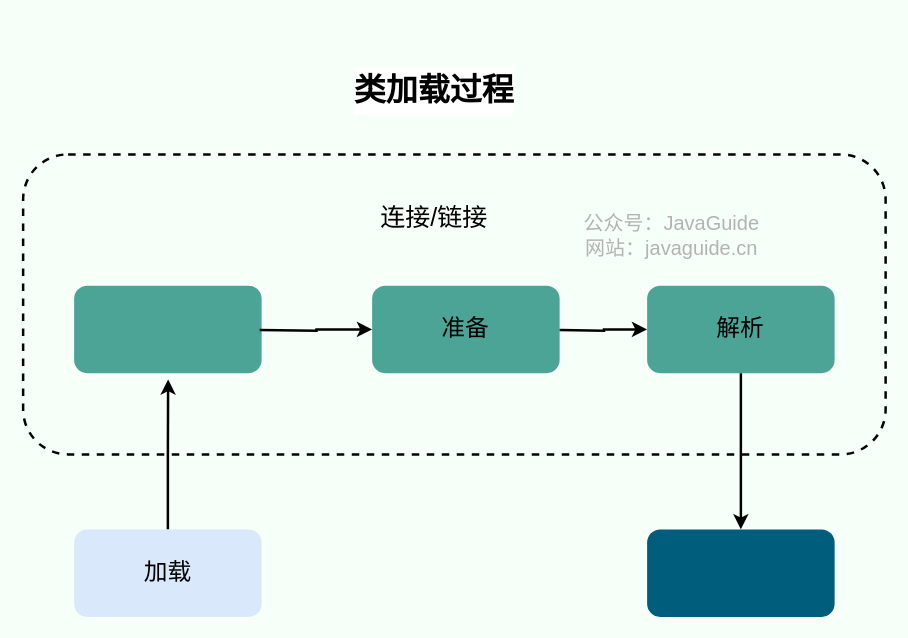
Some shapes in this 908 by 638 pixel diagram are drawn without their labels. The shapes that lost their labels are listed below. From the top down, each one's centre as x and y in pixels, then its label:
(x=167, y=328): 验证
(x=740, y=572): 初始化
